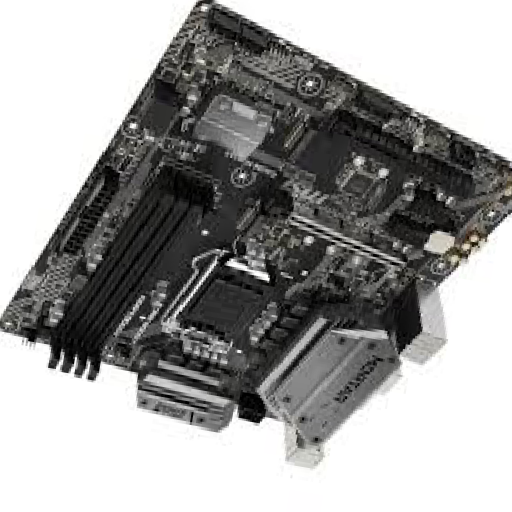CPU: (166, 250, 275, 353)
GPU: (330, 116, 473, 199), (268, 196, 405, 270)
MOTHERBOARD: (3, 2, 512, 427)
RAM: (49, 171, 218, 382)
SSD: (237, 206, 267, 241)
